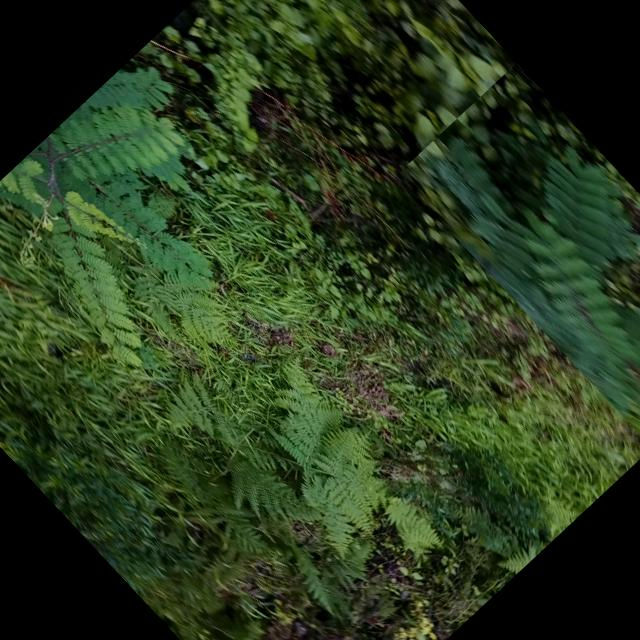Mysore-Thorn-Weed: (0, 51, 304, 387), (397, 62, 640, 447)
